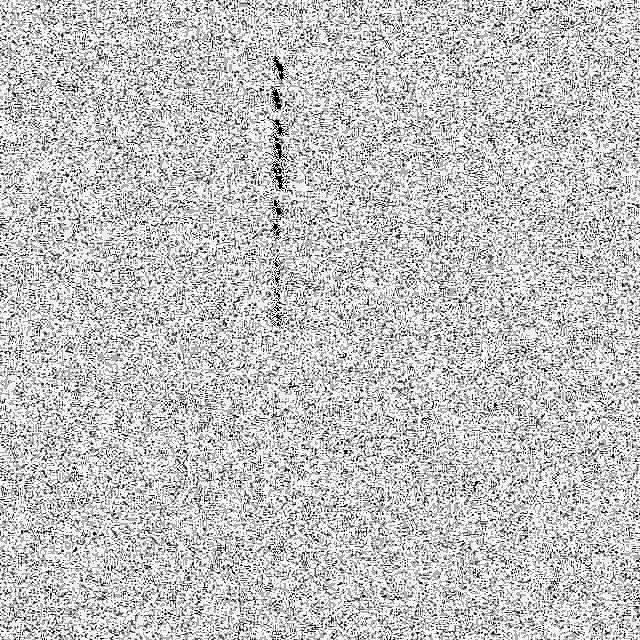Foreign_yarn: (253, 50, 316, 234)
